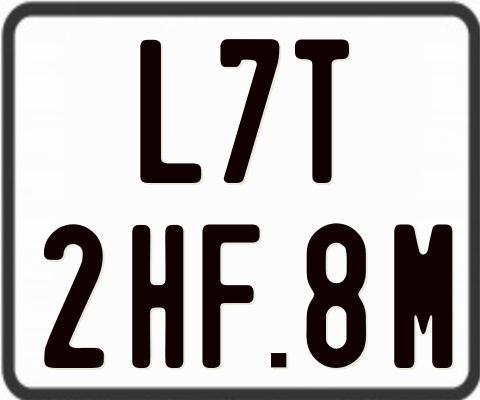2: (43, 222, 108, 369)
7: (218, 36, 282, 186)
8: (305, 223, 366, 371)
F: (199, 224, 258, 374)
H: (131, 225, 183, 368)
L: (140, 40, 203, 189)
M: (393, 221, 455, 366)
T: (295, 36, 351, 185)
